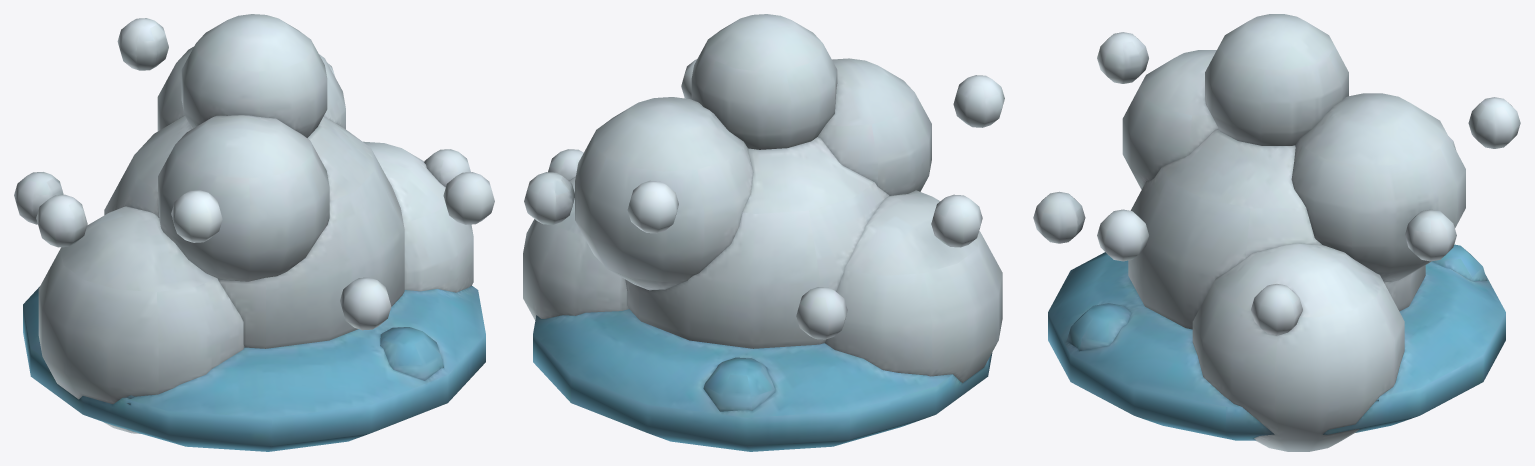
Rendered from SprayPuff.glb.
The picture shows the model from 3 angles, left to right: view 1: azimuth 30°, elevation 25°; view 2: azimuth 150°, elevation 25°; view 3: azimuth 270°, elevation 25°; orthographic projection. The views are drawn at different scales.
Visible parts, largest first — view 1: SprayPuff; view 2: SprayPuff; view 3: SprayPuff.
Part boxes in pixels (box(x1,y1,x2,y2)): SprayPuff: box(14, 14, 494, 451); SprayPuff: box(523, 14, 1004, 451); SprayPuff: box(1033, 14, 1520, 451).
Size of the model in its own units: 1.12 by 0.9325 by 1.12.
1 material, 1 textured.
